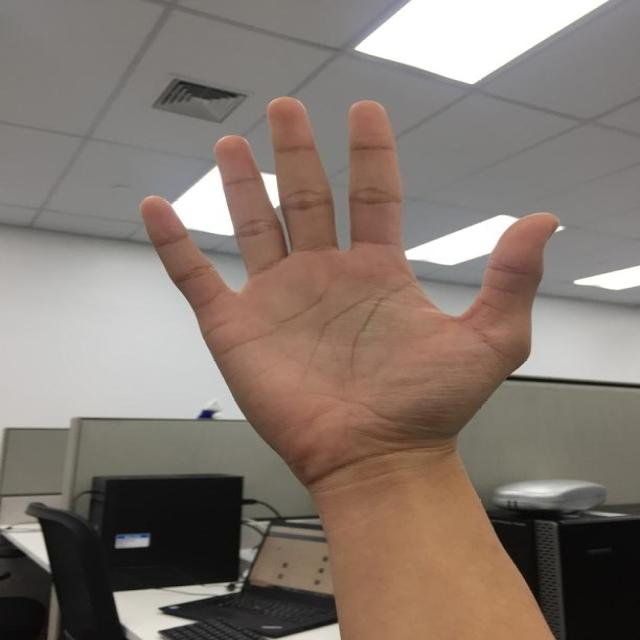hand: (143, 96, 562, 473)
